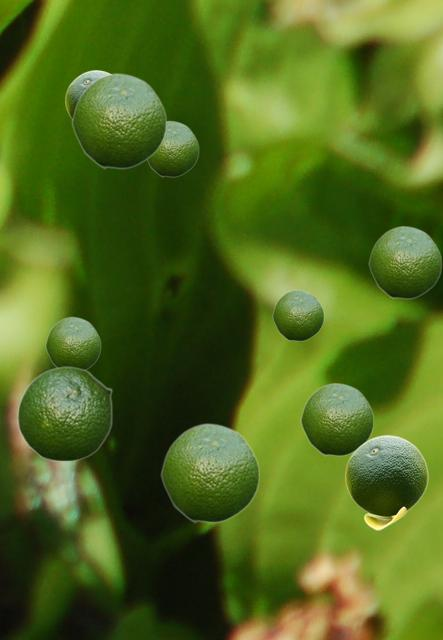calamansi: (160, 422, 259, 522), (71, 72, 166, 168), (17, 366, 112, 461), (345, 435, 427, 529), (300, 382, 373, 455), (368, 225, 441, 298), (45, 316, 100, 369), (147, 120, 198, 176), (272, 289, 323, 340), (65, 70, 109, 118)
